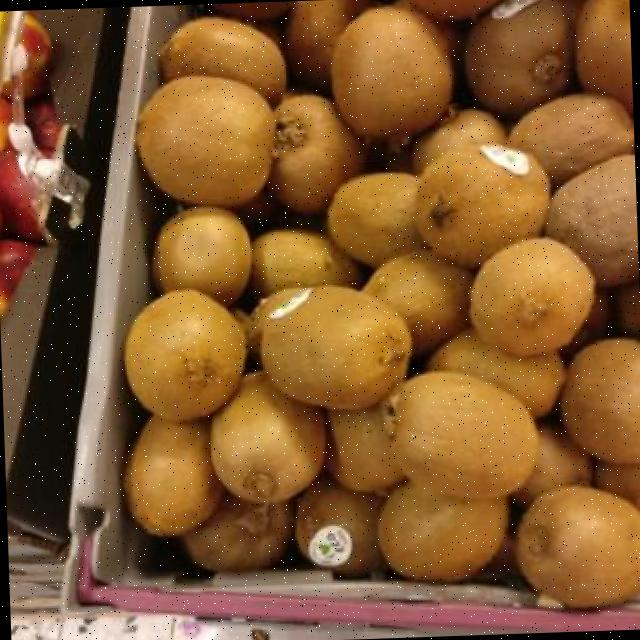kiwi: (254, 287, 412, 409), (391, 371, 538, 497), (136, 79, 271, 205), (330, 6, 453, 136), (124, 288, 246, 419), (418, 145, 549, 266), (211, 371, 325, 501), (519, 486, 640, 607), (470, 237, 595, 354), (377, 482, 506, 580), (546, 154, 639, 284), (430, 329, 565, 417), (465, 0, 568, 115), (127, 416, 223, 534), (508, 93, 633, 183), (268, 94, 363, 212), (363, 250, 471, 352), (160, 18, 286, 102), (560, 342, 640, 462), (154, 207, 250, 305), (327, 174, 424, 266), (297, 476, 381, 576), (185, 495, 291, 570), (284, 0, 368, 89), (251, 232, 357, 296), (329, 406, 403, 491), (512, 428, 591, 506), (578, 0, 633, 112), (411, 110, 506, 172)
